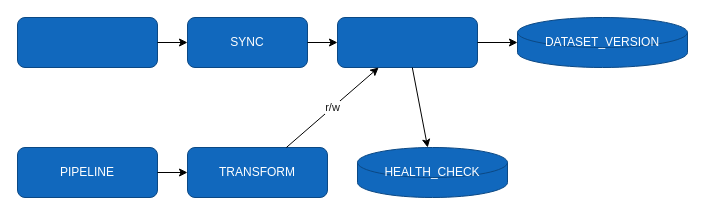
The diagram is 705 pixels wide and 215 high, and some of its shapes have lost their labels. The centre of each missing label's shape, as x and y in pixels:
"DATASET" belongs at (x=407, y=42).
"SOURCE" belongs at (x=87, y=42).
